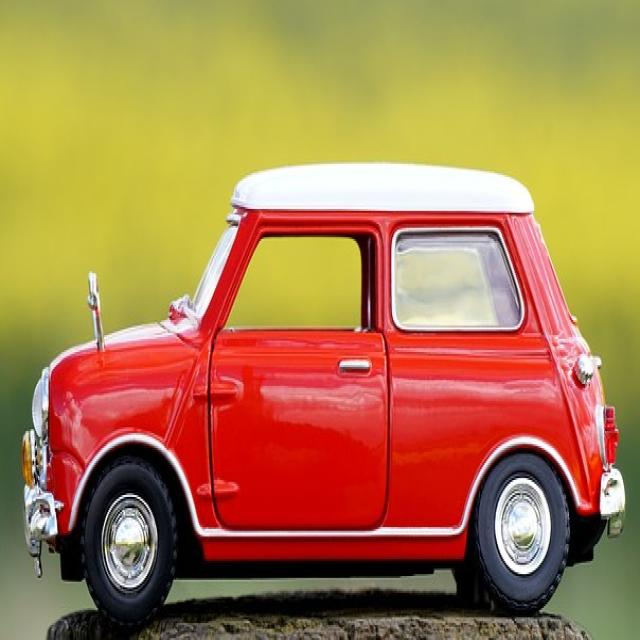Car: (23, 164, 624, 627)
